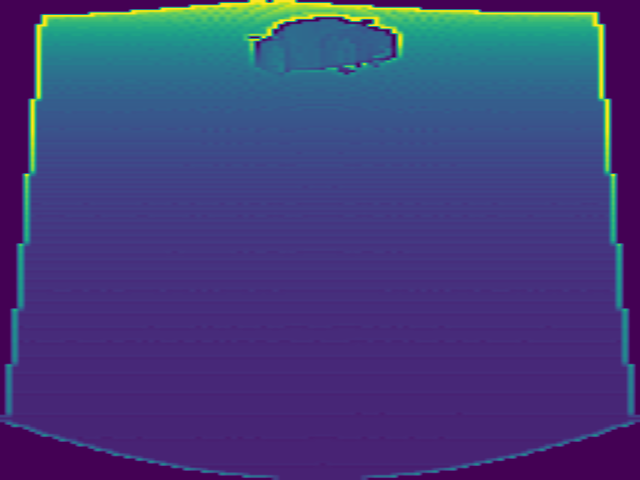car_0027: (249, 17, 404, 78)
